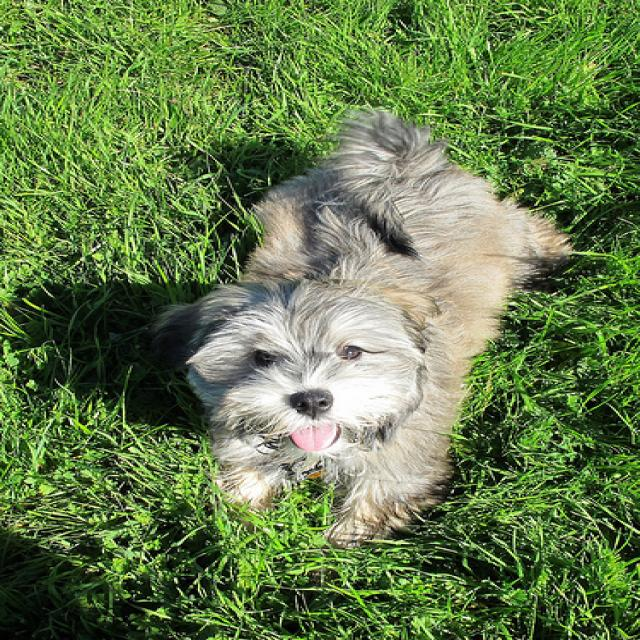dog: (186, 292, 423, 454)
